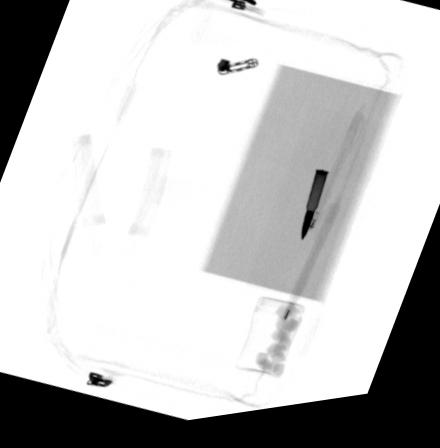Bullet: (299, 178, 329, 252)
